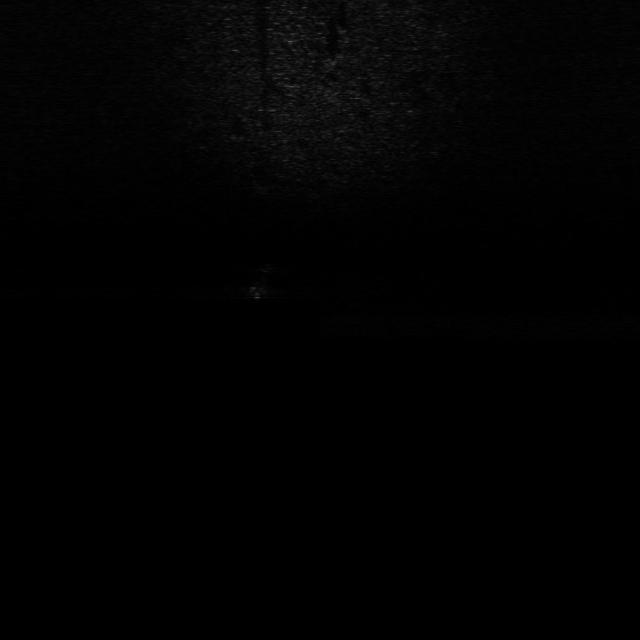human body: (246, 258, 280, 307)
